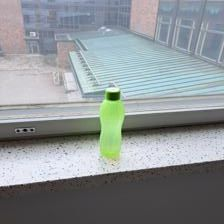bottle: (95, 83, 126, 162)
